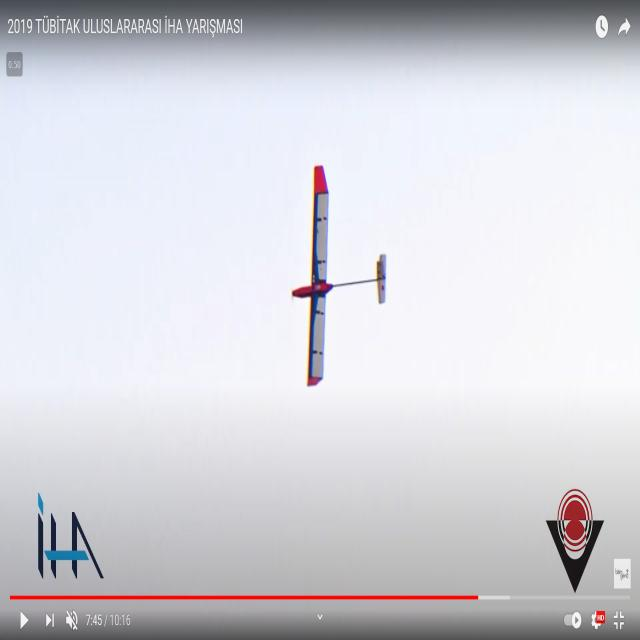iha: (323, 163, 355, 387)
